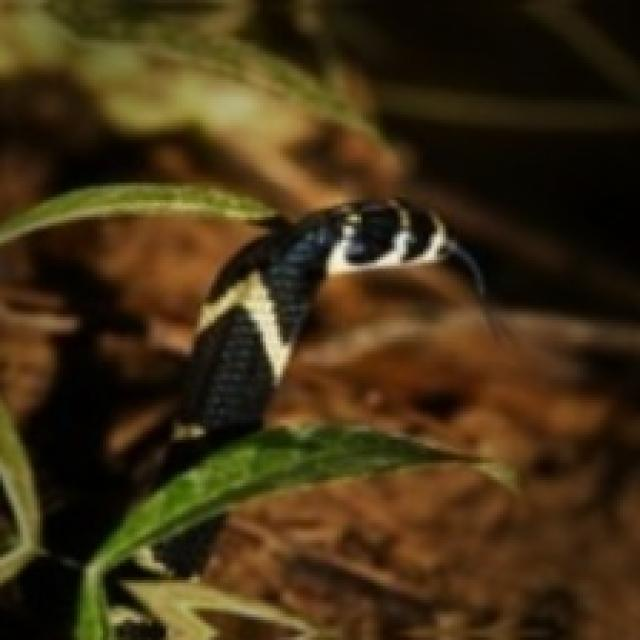king cobra: (166, 200, 480, 471), (171, 200, 480, 443), (271, 383, 380, 426)
